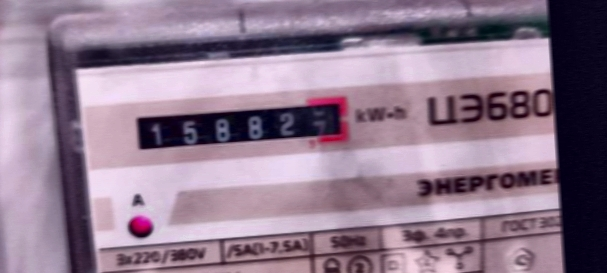1: (148, 118, 163, 144)
2: (277, 108, 294, 133)
5: (180, 115, 197, 142)
7: (311, 114, 326, 134)
8: (213, 114, 230, 141), (246, 111, 262, 137)
screen: (121, 85, 357, 163)
